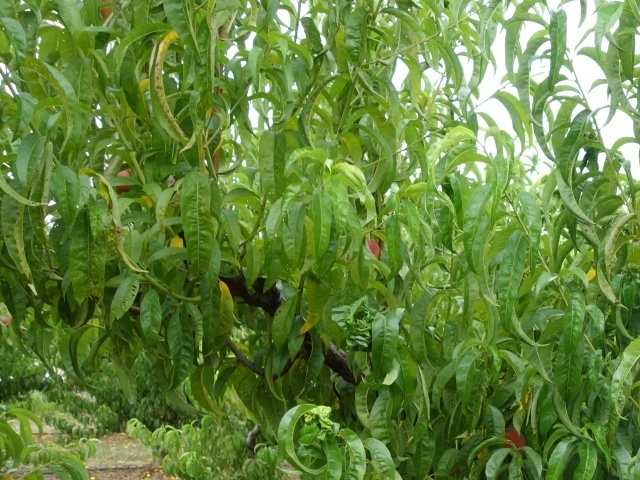peach: (496, 420, 530, 455), (104, 167, 137, 196)
